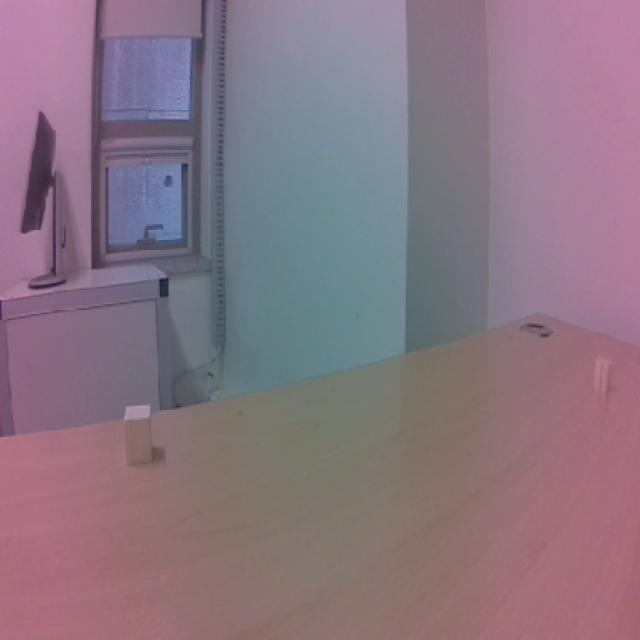obstacle: (104, 395, 166, 480)
